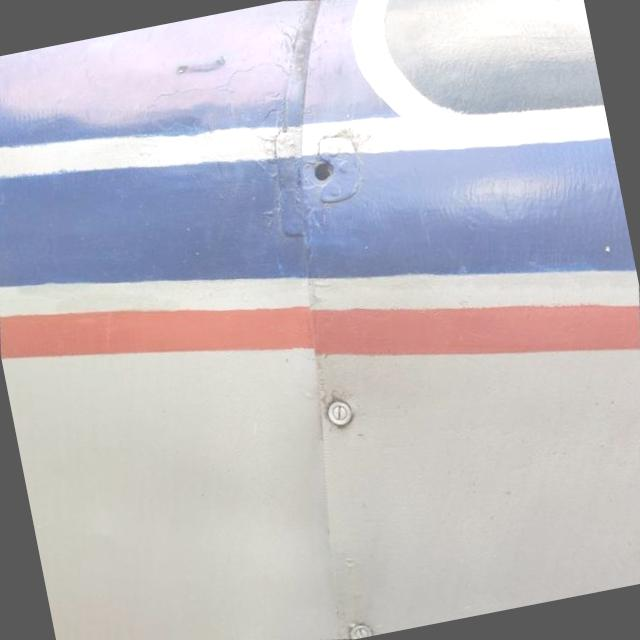Missing Fastener: (314, 157, 338, 181)
